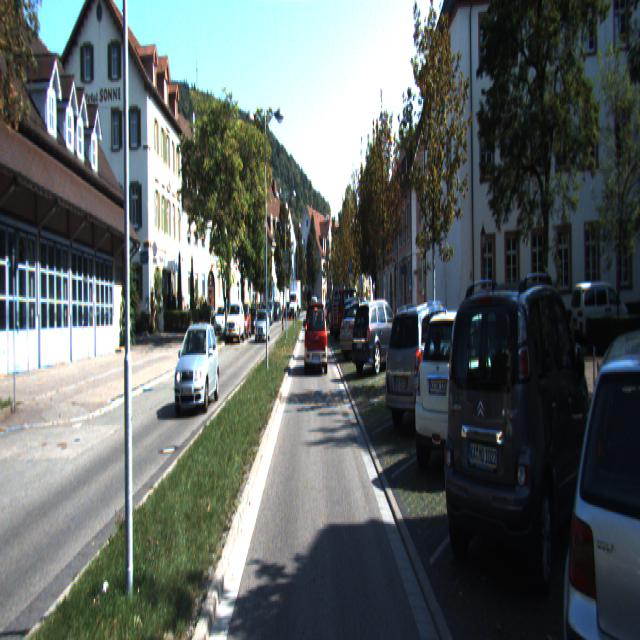Car: (440, 276, 602, 620), (550, 319, 640, 638), (412, 304, 516, 495), (381, 303, 474, 438), (174, 322, 222, 416), (350, 298, 407, 376), (339, 300, 382, 357), (330, 287, 364, 338), (306, 302, 328, 376), (226, 301, 244, 342), (237, 304, 253, 339), (255, 310, 271, 344), (215, 305, 227, 335)
